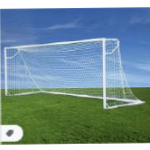goals: (3, 35, 148, 109)
